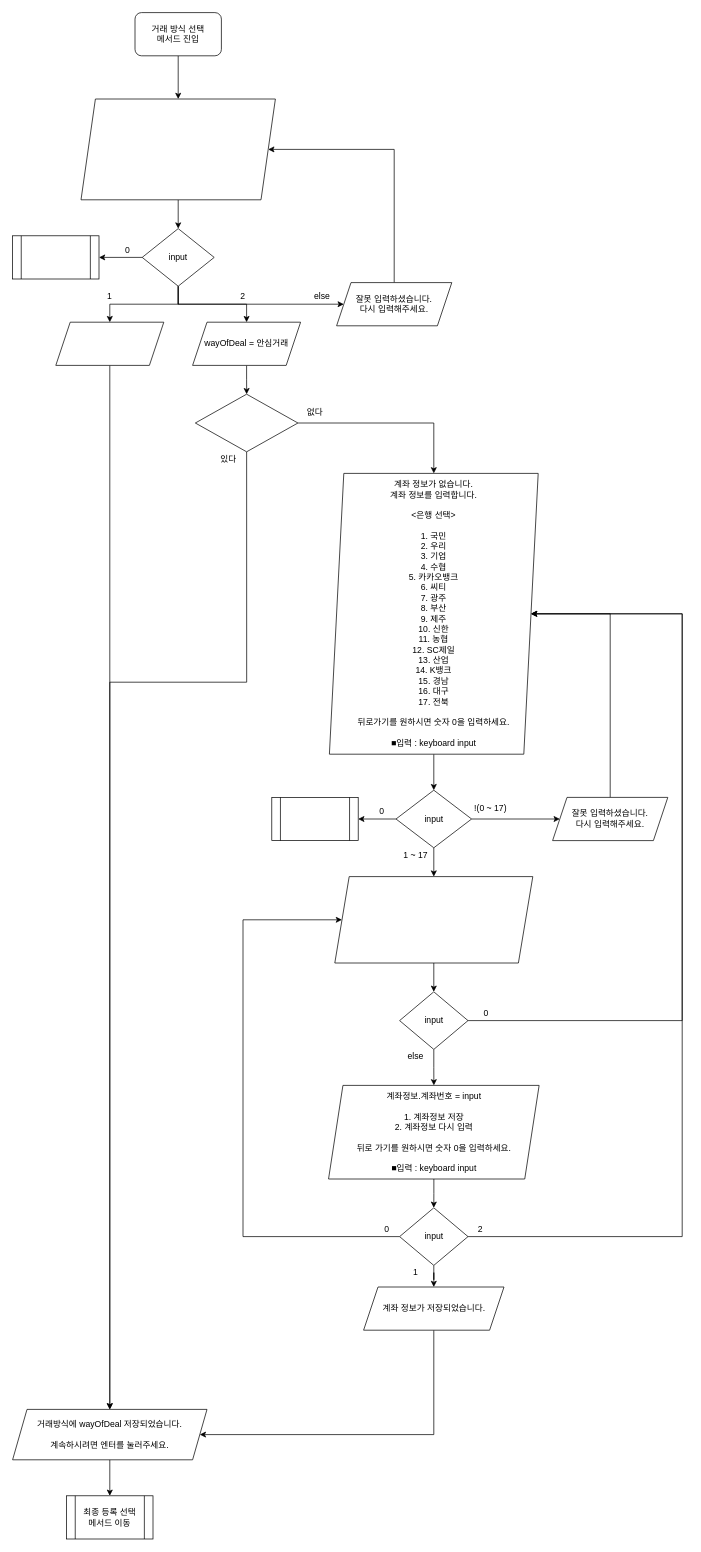
This 701x1552 diagram has some shape labels left out. Here are the shapes that lost their labels. From the top down, the centre of each, then its label:
At (177,149): "거래 방식 선택 1. 직거래 2. 안심거래 뒤로가기를 원하시면 숫자 0을 입력하세요. ■입력 :".
At (55,257): "상품 상태 선택 메서드 이동".
At (109,343): "wayOfDeal = 직거래".
At (246,422): "계좌정보".
At (314,819): "거래 방식 선택 메서드 이동".
At (433,919): "계좌정보.은행명 = input 은행명 계좌번호를 입력해주세요. 뒤로가기를 원하시면 숫자 0을 입력하세요. ■입력 : keyboard input".
